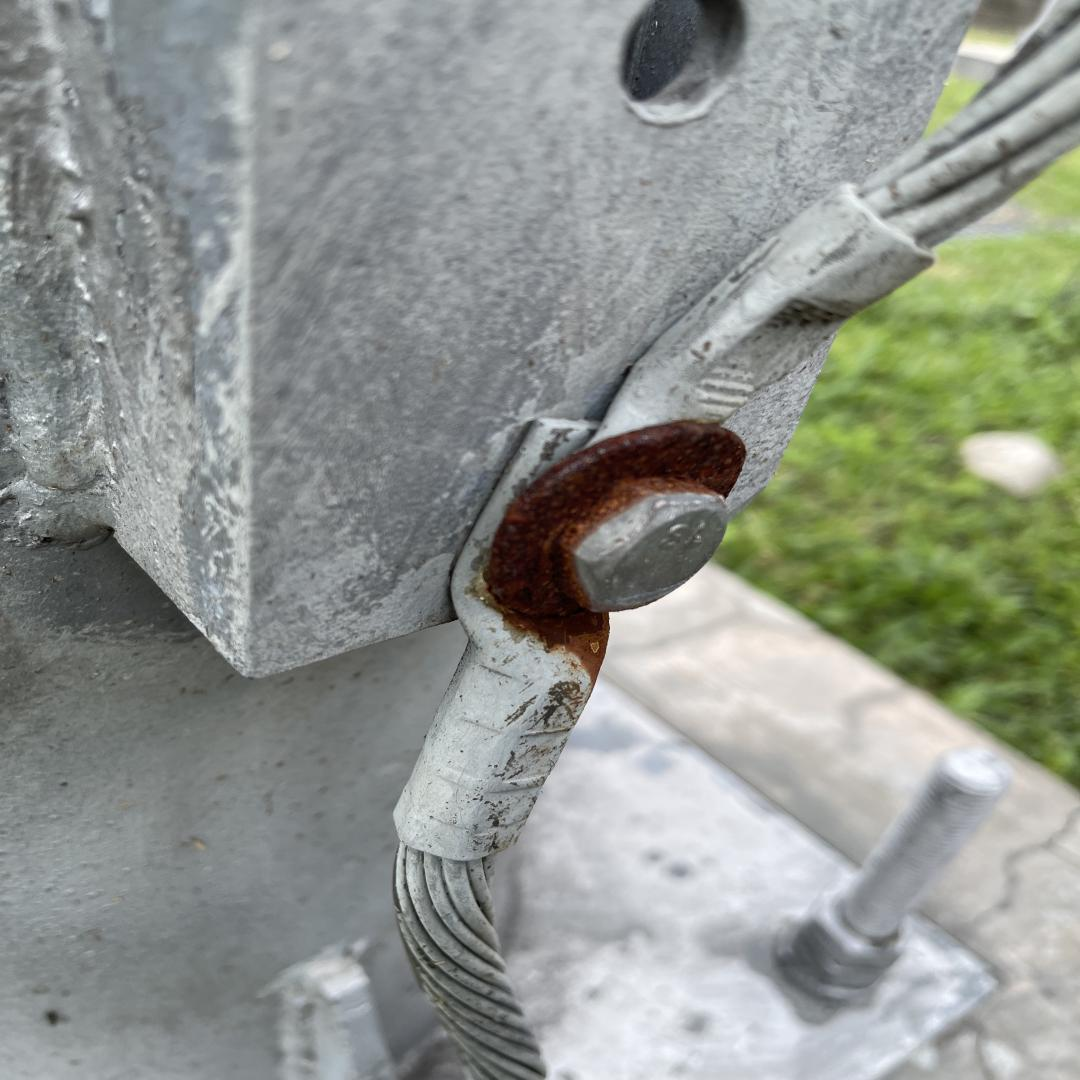Metal corroido: (476, 423, 748, 697)
Tornillo sin corrosion: (573, 495, 728, 614)
